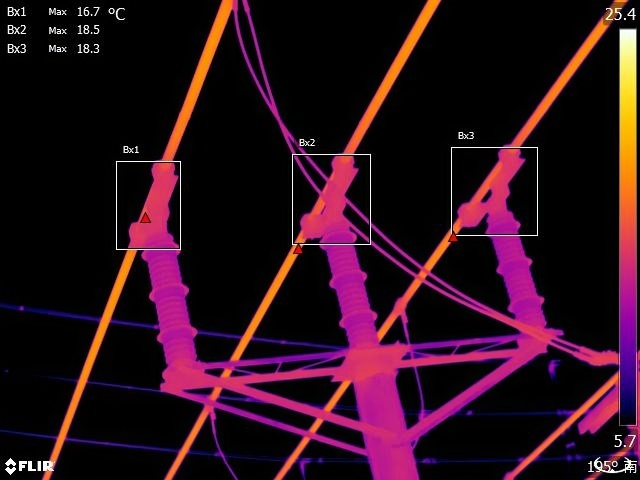clamp: (386, 292, 412, 329), (196, 391, 224, 418)
post insulator: (140, 230, 209, 365), (487, 201, 545, 337), (320, 220, 383, 339)
